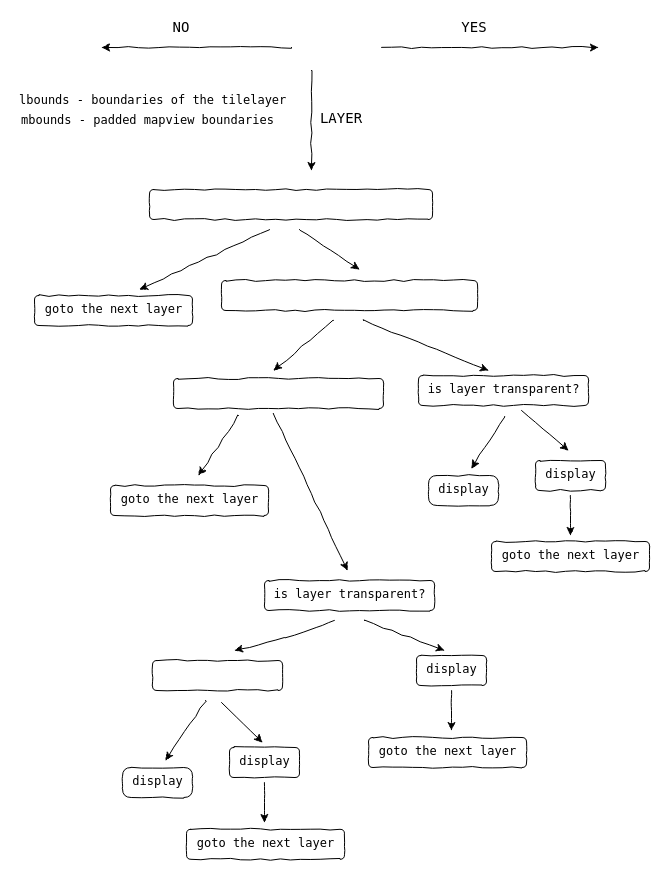
Some shapes in this 667 by 877 pixel diagram are drawn without their labels. Each missing label, with the box of its shape:
is actual map zoom valid for layer?: (148, 188, 432, 220)
is layer without bounds value?: (220, 280, 478, 310)
lbounds intersects mbounds?: (172, 378, 384, 408)
lbounds visible?: (152, 660, 282, 690)
